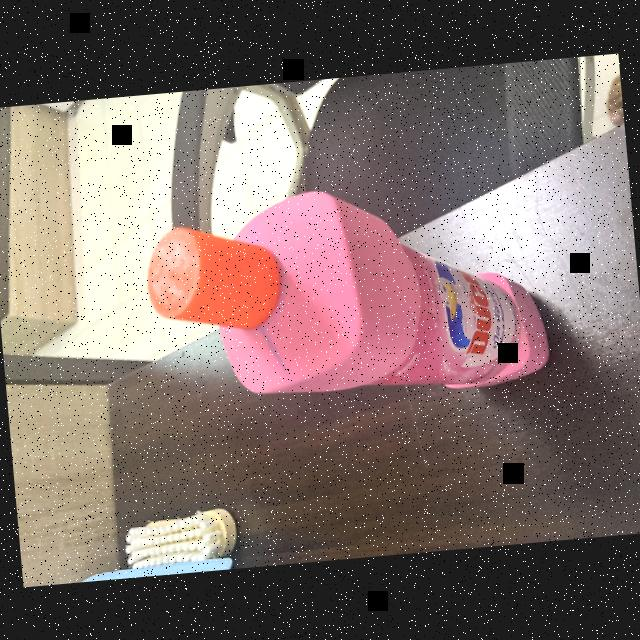chemical_plastic_bottle: (134, 170, 558, 422)
